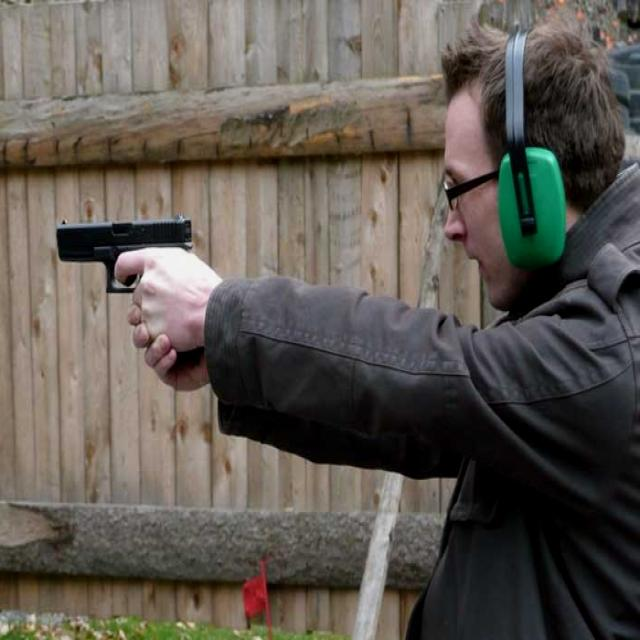pistol: (57, 212, 215, 382)
